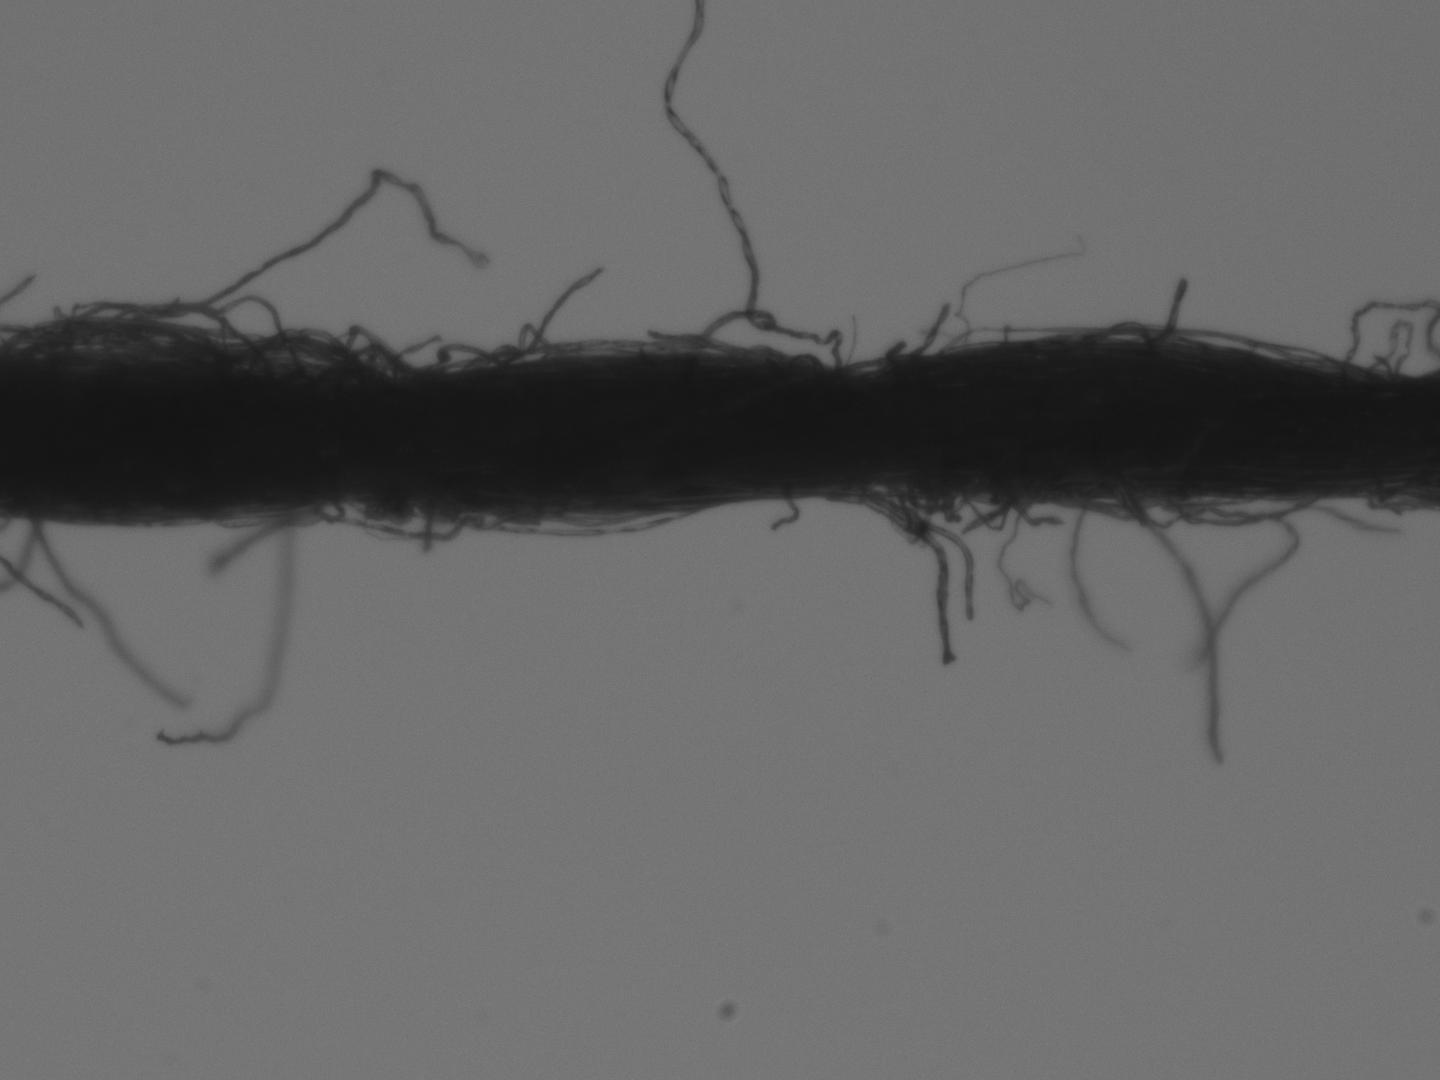loop_fiber: (45, 302, 271, 377), (7, 318, 215, 371), (361, 498, 542, 545), (226, 328, 380, 380), (1140, 488, 1323, 529), (1340, 298, 1434, 377), (313, 343, 412, 383), (1359, 323, 1412, 382), (907, 481, 975, 524), (1078, 314, 1161, 346), (1051, 493, 1150, 520), (960, 486, 1009, 533), (425, 343, 501, 372), (363, 500, 416, 528), (310, 495, 350, 528)
protruding_fiber: (158, 517, 293, 745), (505, 262, 603, 365), (907, 304, 949, 364), (1163, 276, 1189, 339), (770, 492, 799, 535)
